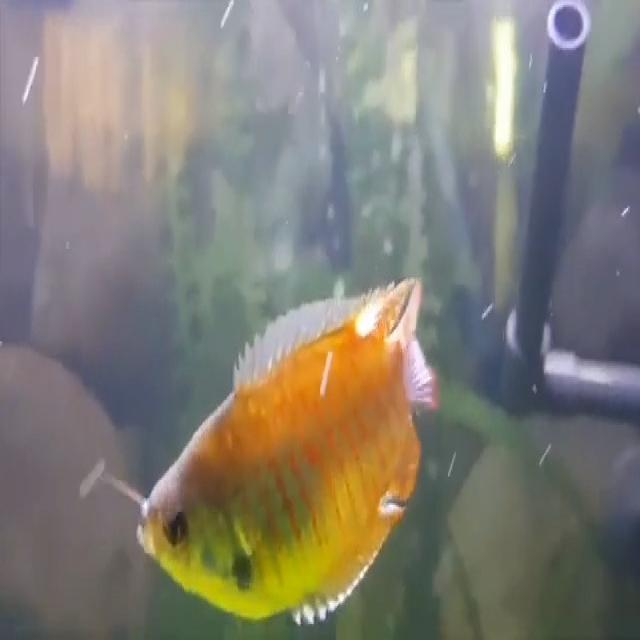fish: (135, 279, 439, 627)
